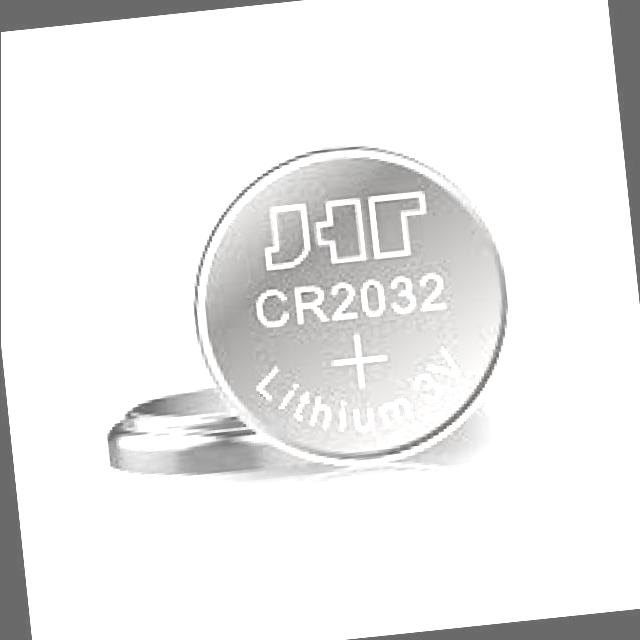COIN: (160, 115, 542, 491)
